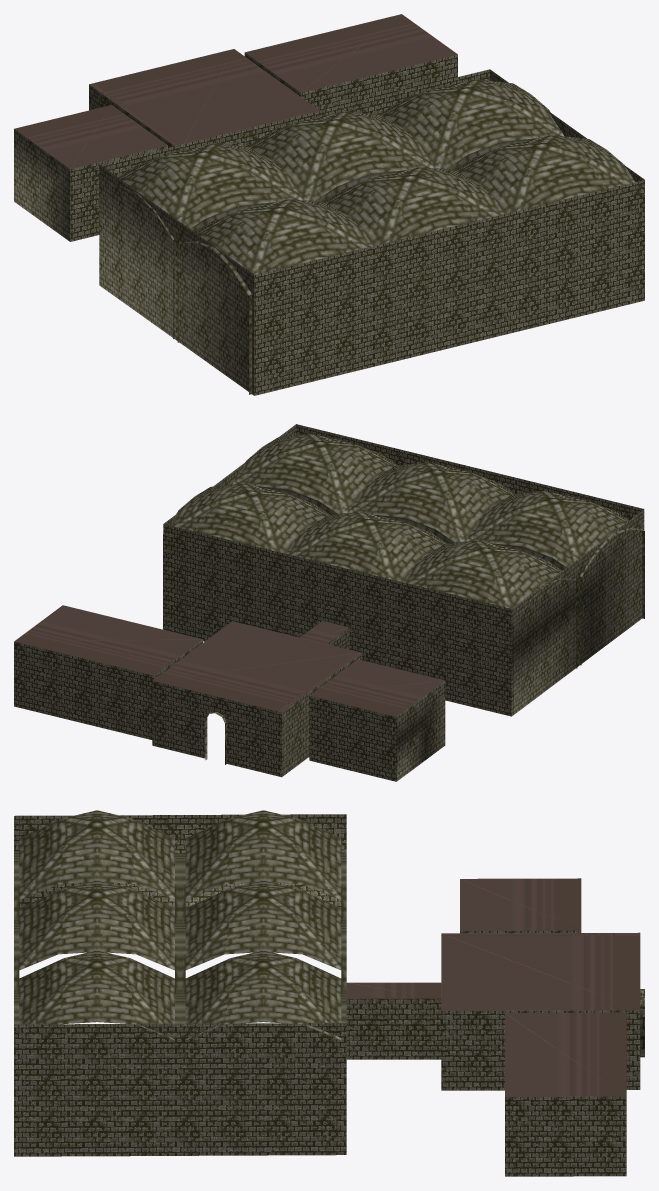
The picture shows the model from 3 angles, top to bottom: view 1: azimuth 30°, elevation 25°; view 2: azimuth 150°, elevation 25°; view 3: azimuth 270°, elevation 25°; orthographic projection. The views are drawn at different scales.
Parts seen in each view (by area): view 1: final, arches.003, room1, roomLeft, roomRight; view 2: final, arches.003, room1, roomLeft, roomRight, connection; view 3: arches.003, final, room1, roomLeft, connection, roomRight.
Boxes of the visible parts, <box> form: final: <box>99,69,644,395</box>; arches.003: <box>104,79,635,394</box>; room1: <box>89,49,319,147</box>; roomLeft: <box>244,14,457,110</box>; roomRight: <box>14,105,167,241</box>; final: <box>163,424,644,716</box>; arches.003: <box>163,433,644,714</box>; room1: <box>152,621,361,777</box>; roomLeft: <box>14,605,202,739</box>; roomRight: <box>309,659,445,781</box>; connection: <box>300,621,349,649</box>; arches.003: <box>14,810,346,1040</box>; final: <box>14,814,346,1156</box>; room1: <box>441,932,644,1090</box>; roomLeft: <box>505,1012,626,1176</box>; connection: <box>346,982,441,1059</box>; roomRight: <box>460,878,581,933</box>.
Bounding box in the file's own units: 1929 × 2234 × 616.
Materials: 3 (3 with a texture image).
